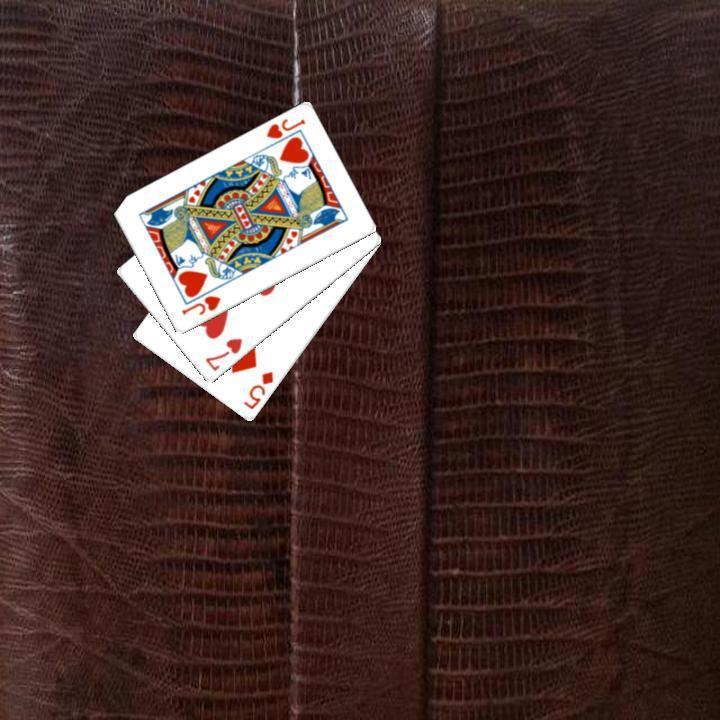5: (239, 367, 276, 412)
7: (200, 334, 244, 374)
J: (177, 291, 222, 317), (262, 115, 307, 141)
